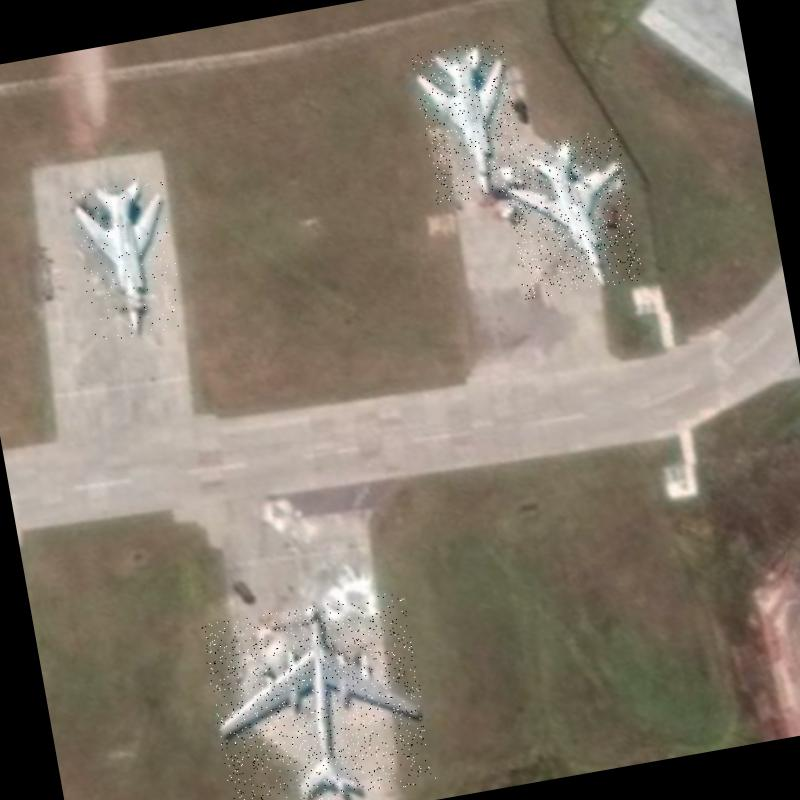A12: (498, 128, 644, 301), (69, 174, 188, 343), (410, 39, 528, 205)
A17: (200, 589, 437, 800)
